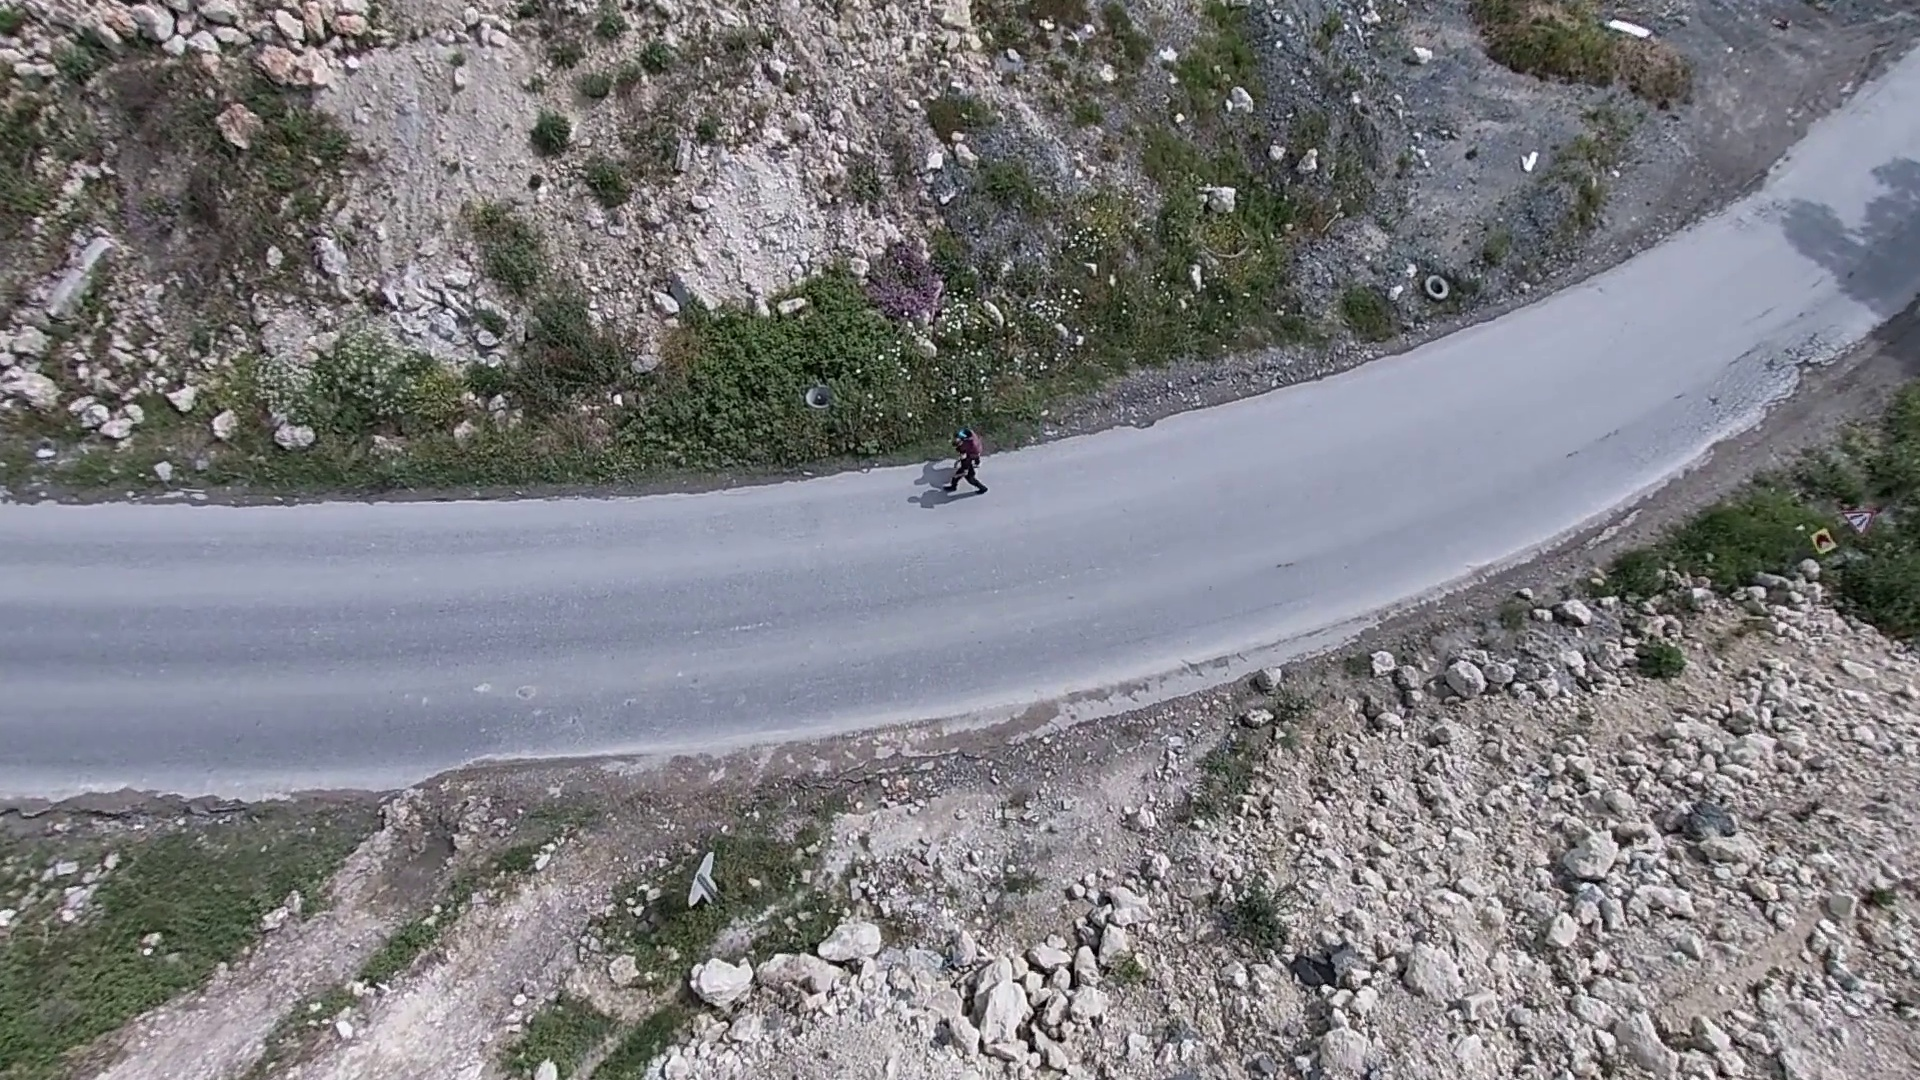insan: (951, 444, 982, 494), (957, 427, 983, 471)
